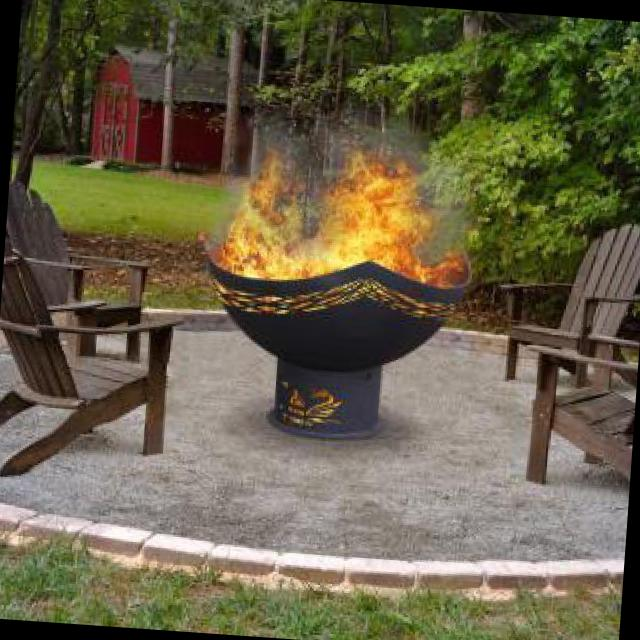Fire: (222, 127, 440, 306), (413, 144, 480, 282)
